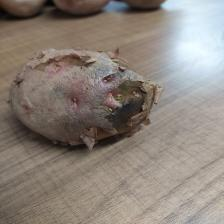Damaged potato: (7, 47, 162, 147)
